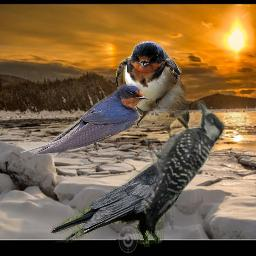Crow: (50, 134, 211, 247)
Swallow: (20, 83, 150, 157), (116, 41, 198, 149)
Woodpecker: (142, 97, 225, 230)
